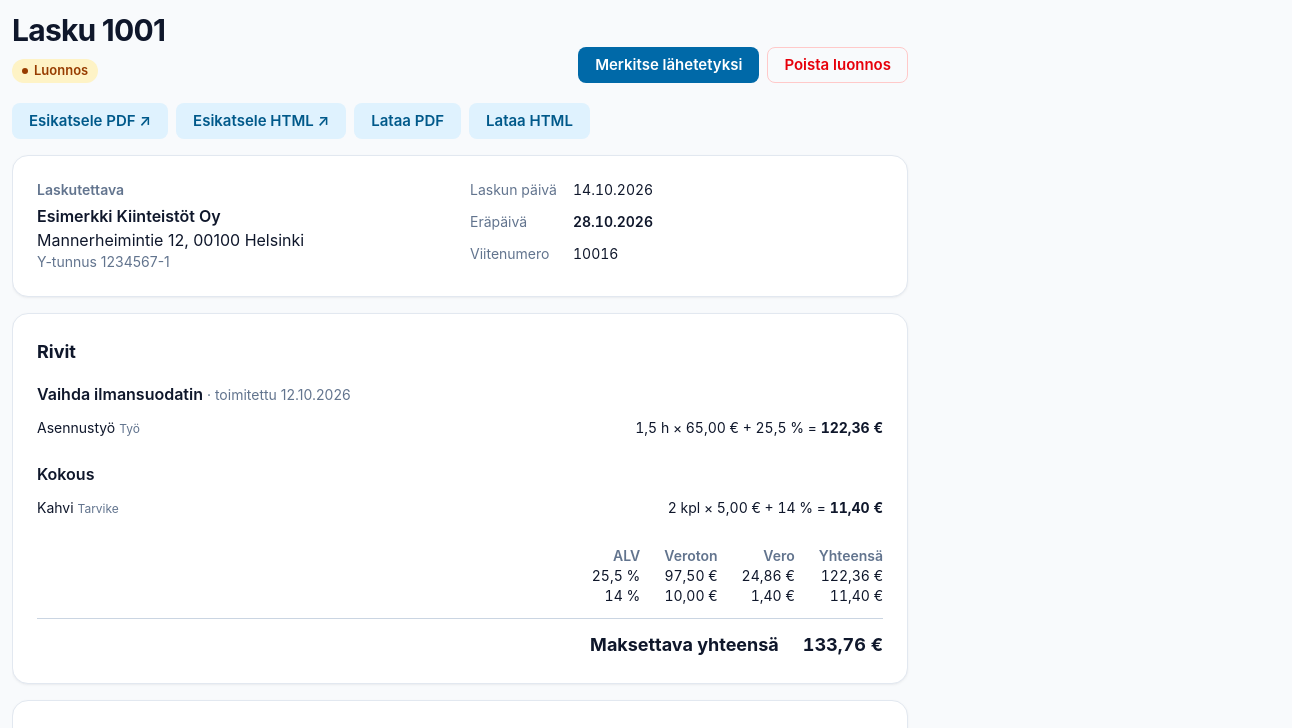
Test case: InvoiceDetailView › marks a draft as sent after confirmation, then as paid
The image size is (1292, 728).
Click the button "Merkitse lähetetyksi". click: (669, 65)
box: x1=578 y1=47 x2=759 y2=83
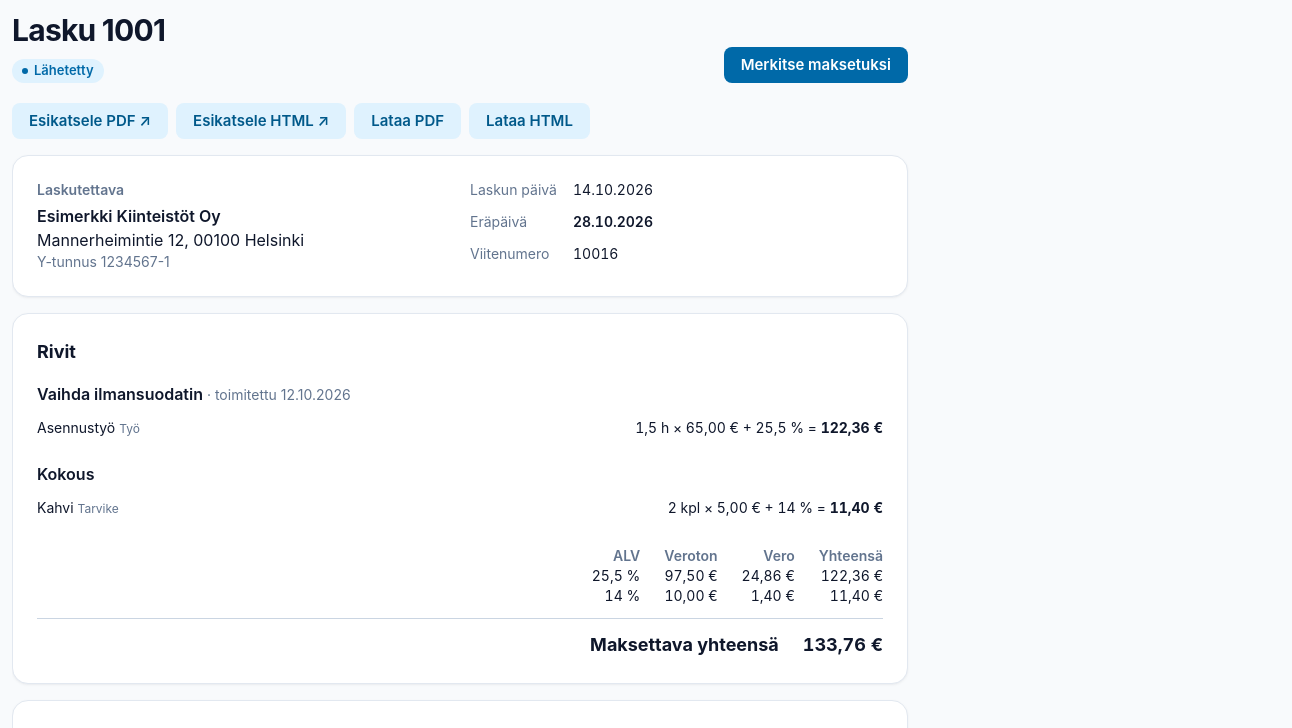
Click the button "Merkitse maksetuksi". click: (816, 65)
box: x1=724 y1=47 x2=908 y2=83
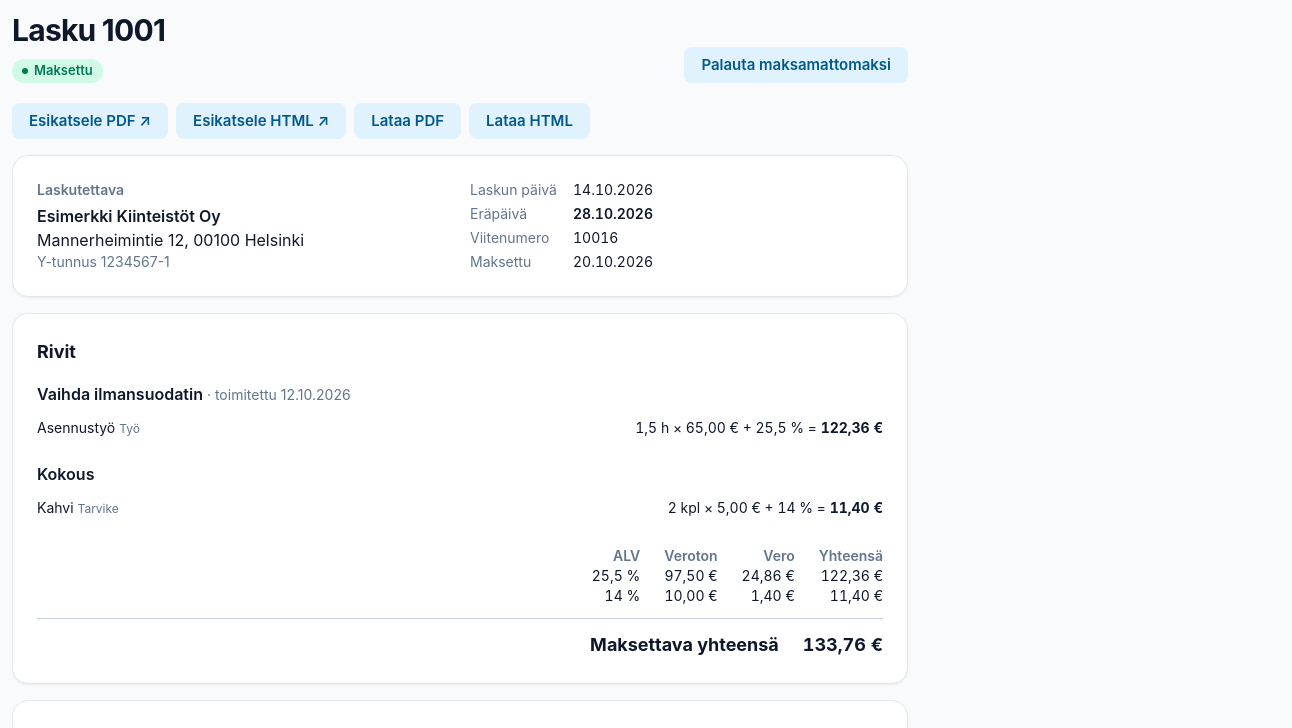
Expected: the text "Maksettu" is shown, x1=12 y1=59 x2=103 y2=83
